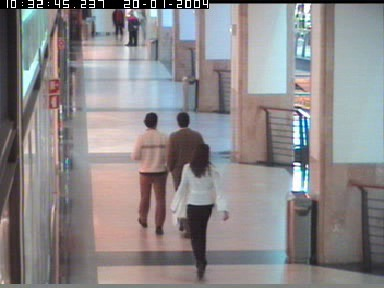person: (169, 143, 229, 281), (165, 110, 207, 240), (130, 111, 171, 234), (125, 10, 140, 46), (112, 9, 125, 40)
